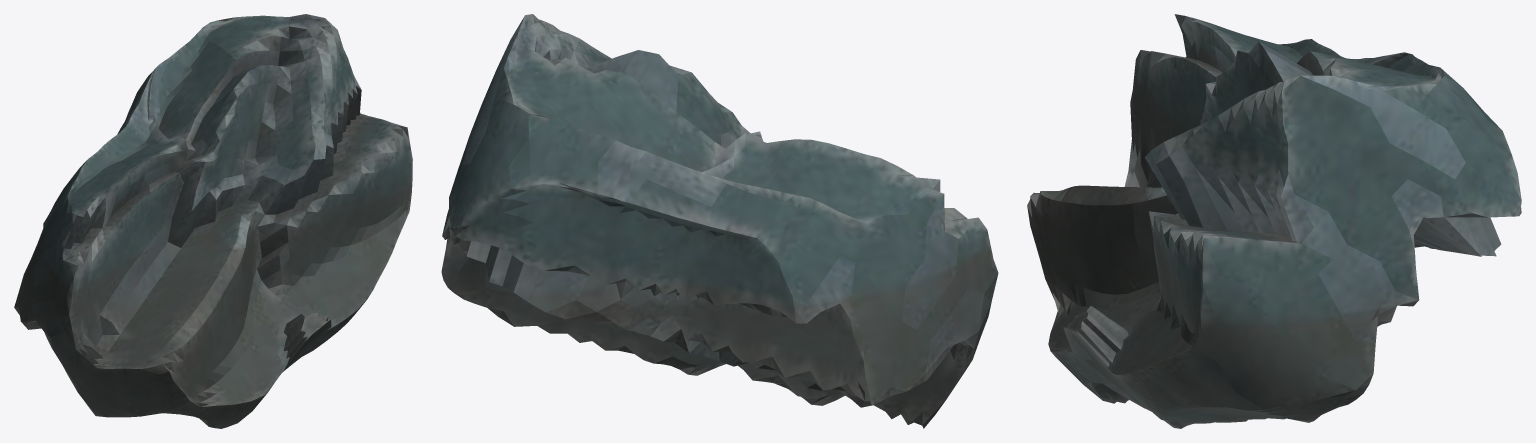
The model's file is big-oxide-asteroid.glb.
The picture shows the model from 3 angles, left to right: view 1: azimuth 30°, elevation 25°; view 2: azimuth 150°, elevation 25°; view 3: azimuth 270°, elevation 25°; orthographic projection. The views are drawn at different scales.
Parts seen in each view (by area): view 1: body; view 2: body; view 3: body.
Boxes of the visible parts, x1,y1,x2,y2 form: body: (14, 14, 412, 428); body: (441, 14, 998, 428); body: (1027, 14, 1521, 428).
Size of the model in its own units: 5 by 4.09 by 4.17.
1 material, 1 textured.
